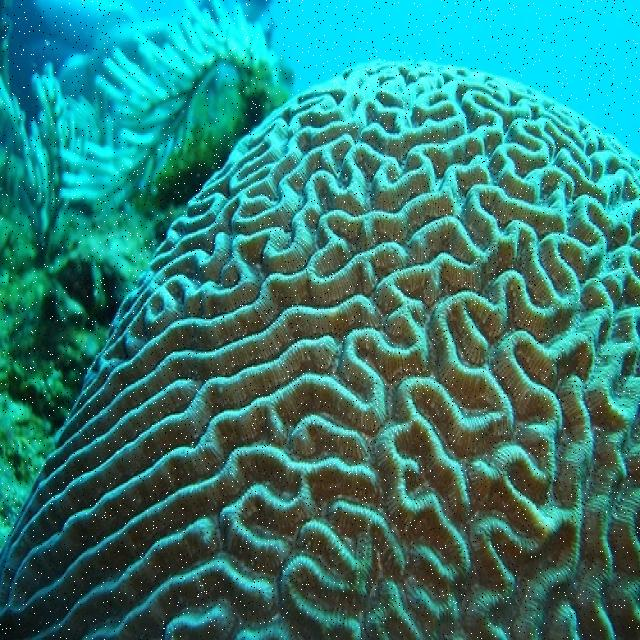reefs: (0, 57, 639, 637), (57, 0, 293, 225), (1, 71, 98, 259)
